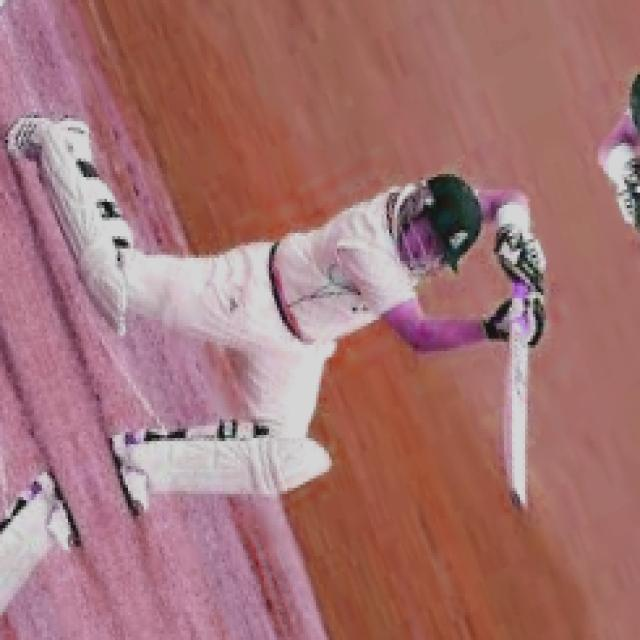bat: (485, 313, 558, 525)
toe: (500, 486, 529, 514)
